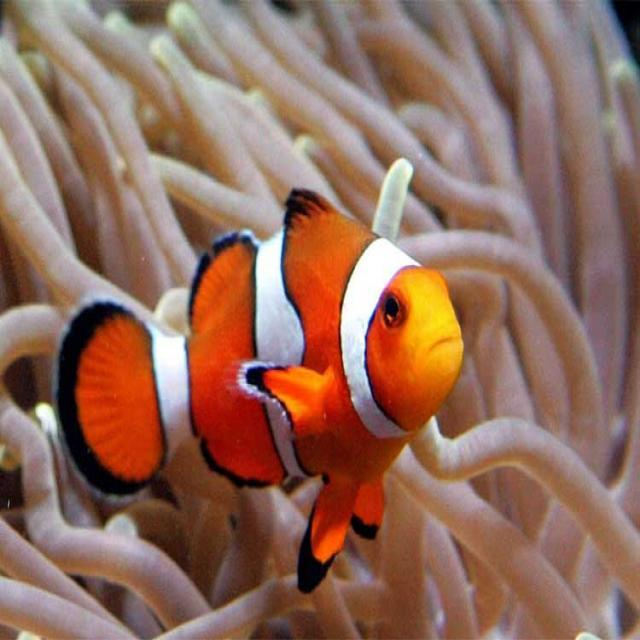ClownFish: (54, 188, 462, 582)
